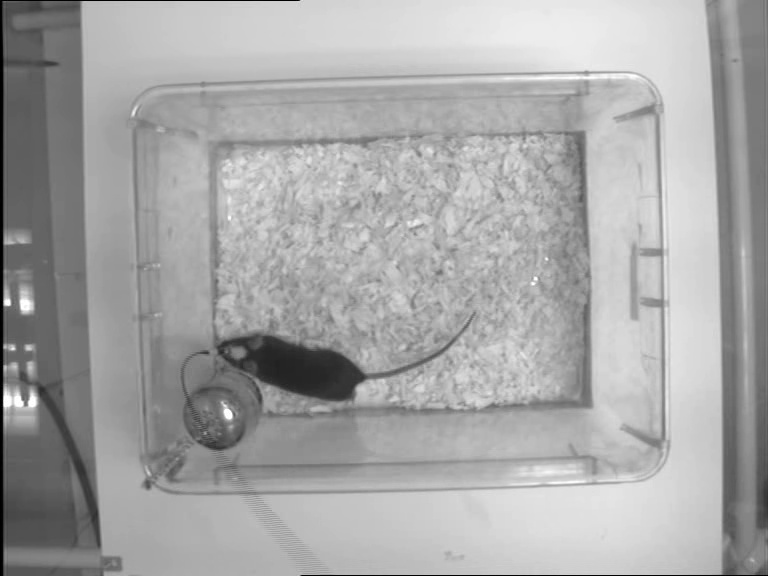mice: (211, 311, 480, 401)
